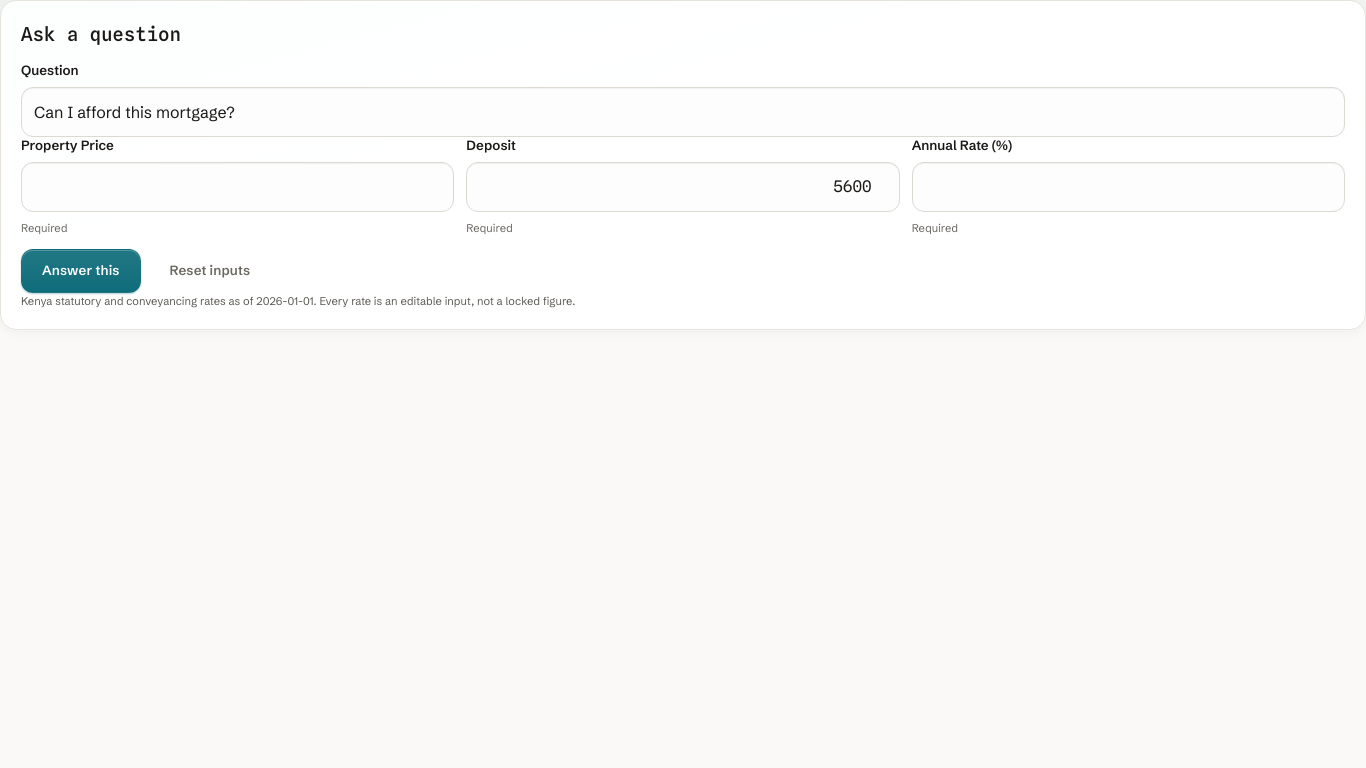
Test: DecisionAssistant take-home actions › resets the form and clears the last answer
The image size is (1366, 768).
Expected: the button "Answer this" is enabled, [21,248,141,292]
Expected: the number field labelled "Deposit" holds "5600", [466,162,900,212]
In the number field labelled "Property price": (238, 187) [21,162,454,212], type "200000"
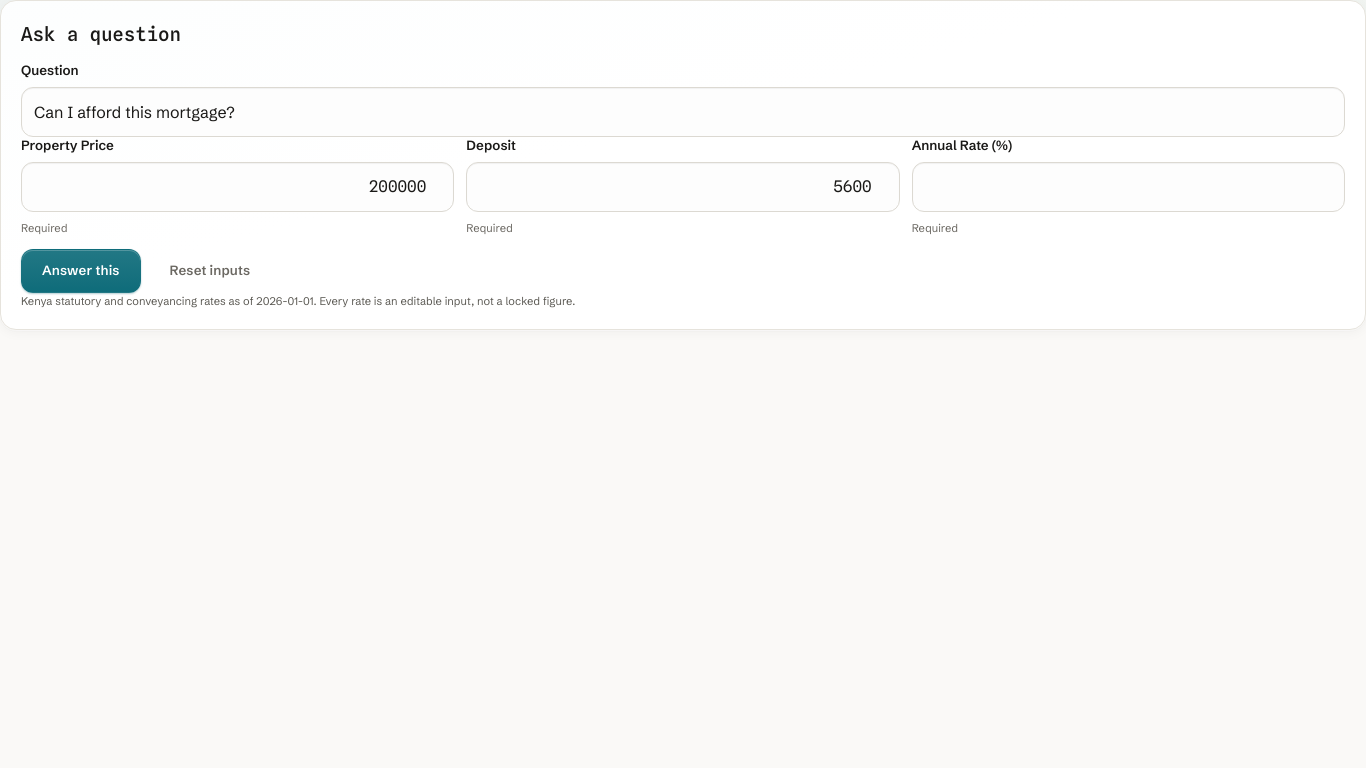
Replace the text in the number field labelled "Deposit" with "50000": (683, 187) [466,162,900,212]
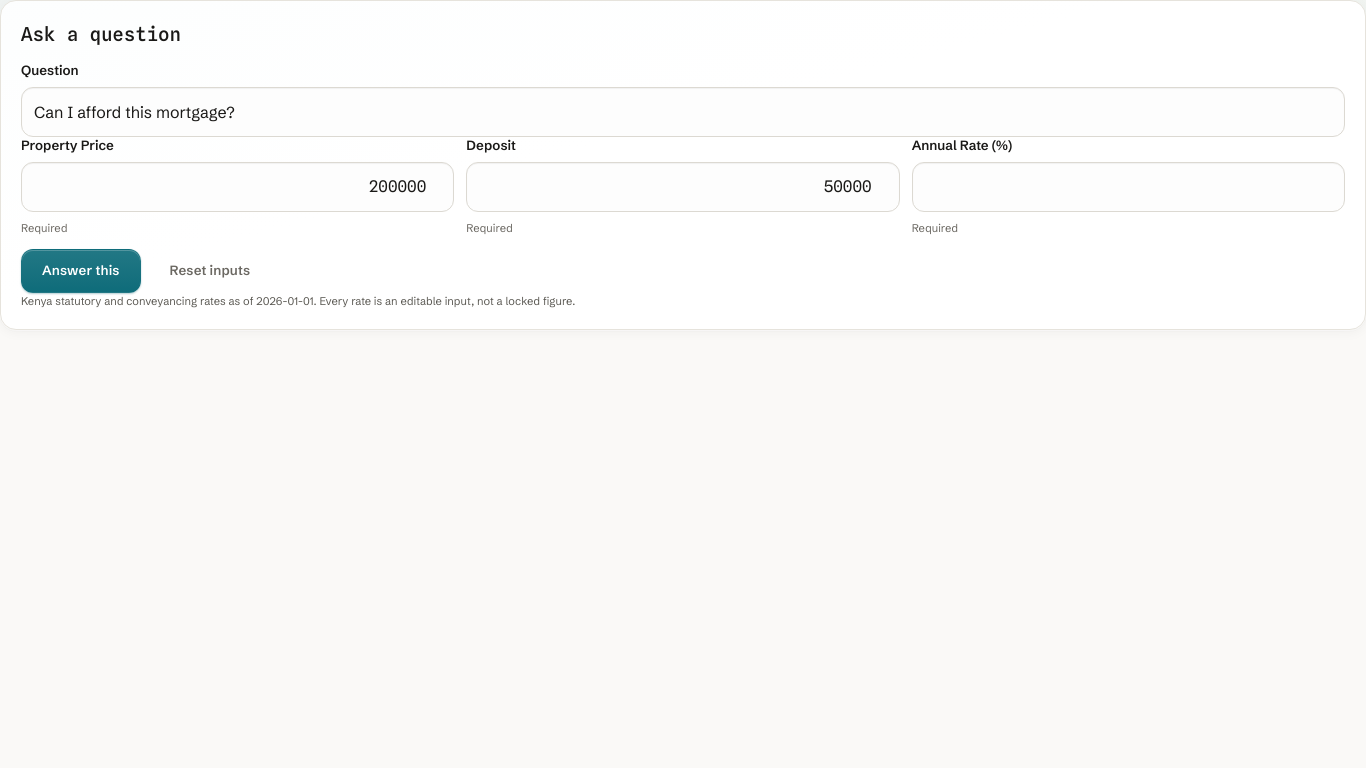
In the number field labelled "Annual rate (%)": (1128, 187) [912,162,1345,212], type "9"
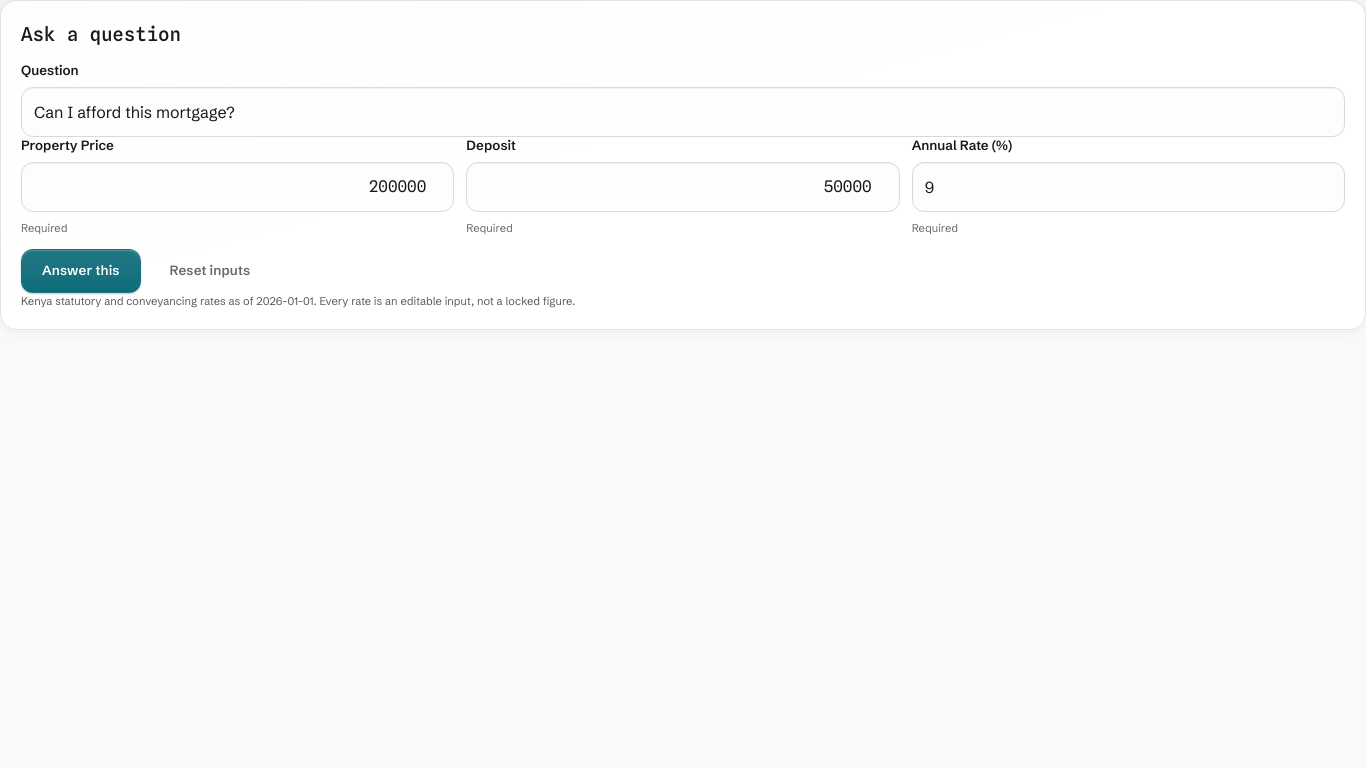
Click the button "Answer this": (81, 270) [21,248,141,292]
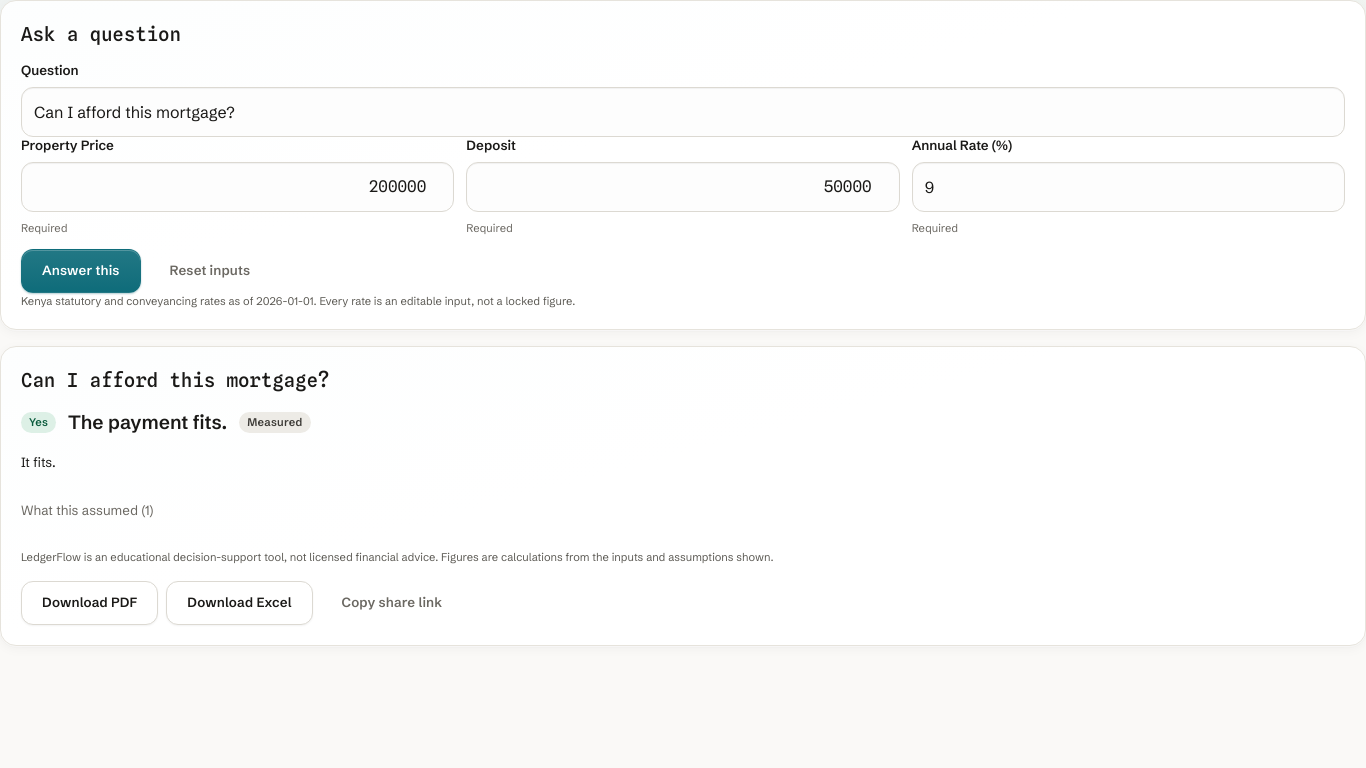
Expected: the text "The payment fits." is shown, [68,408,227,437]
Click the button "Reset inputs": (210, 270) [149,248,271,292]
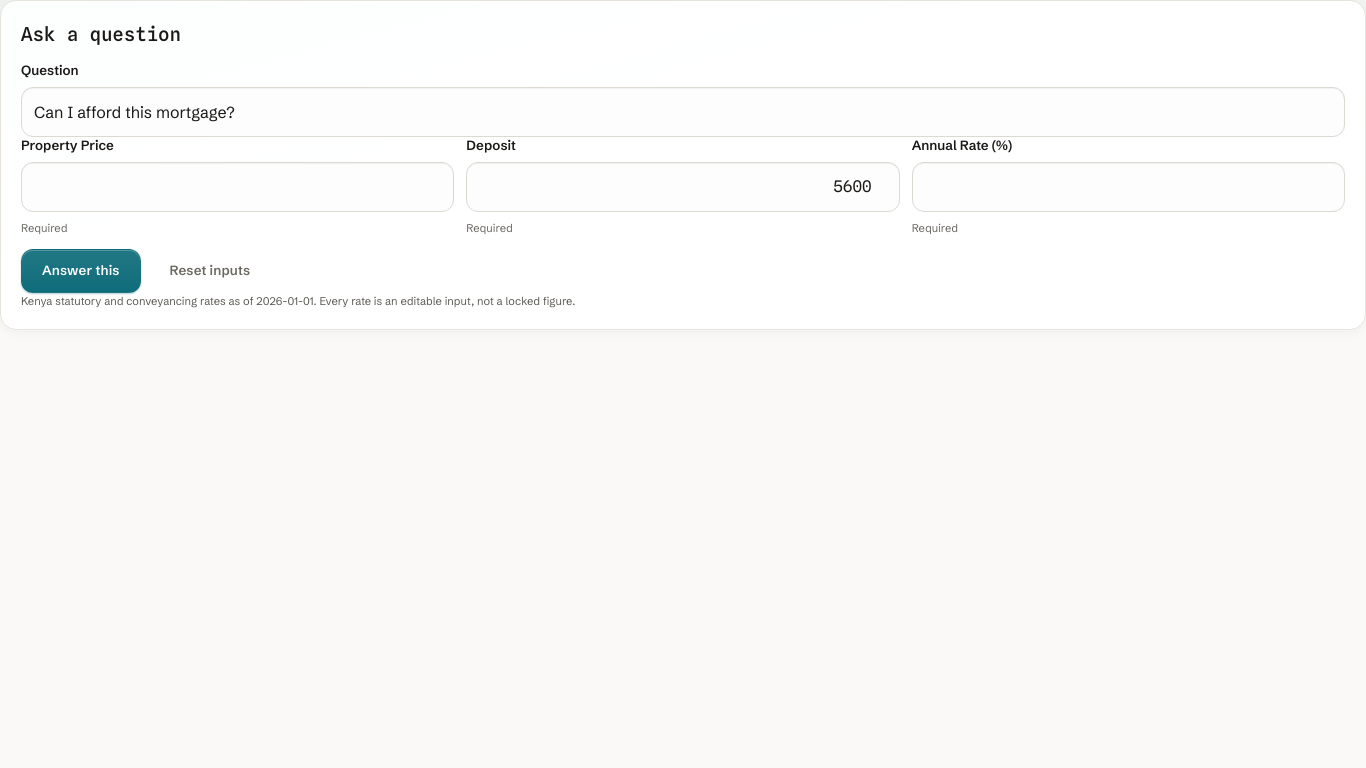
Expected: the text "The payment fits." is gone
Expected: the number field labelled "Property price" is not empty, [21,162,454,212]
